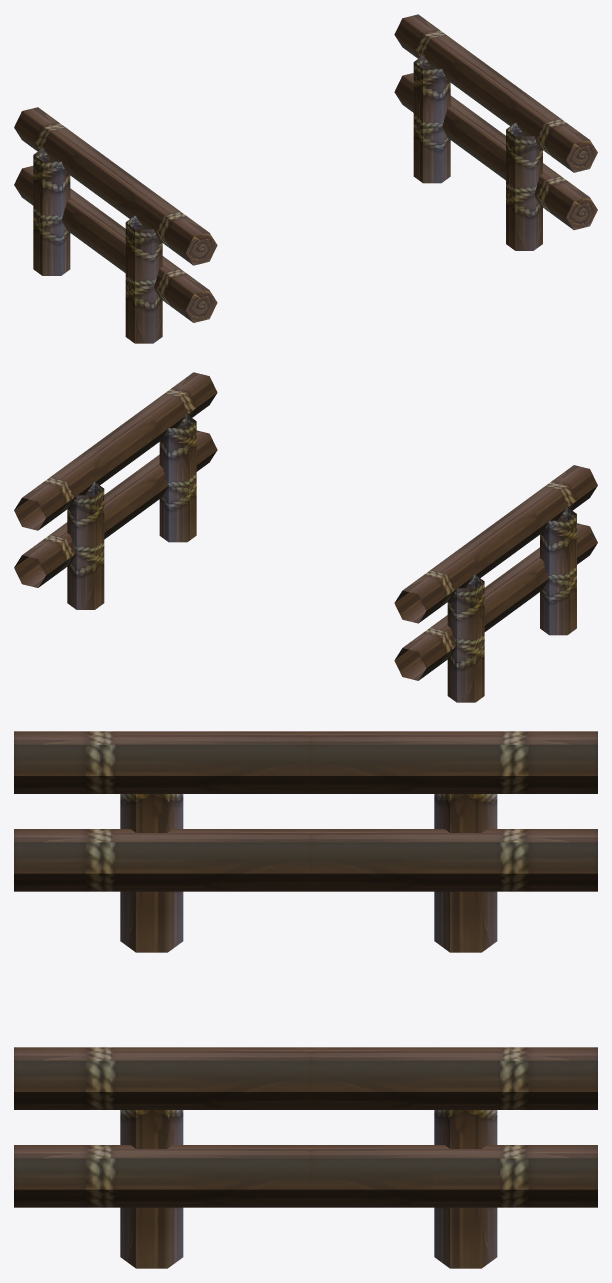
File: scenes_beach_road02.FBX
3 views of the same model, one above another, from view 1: azimuth 30°, elevation 25°; view 2: azimuth 150°, elevation 25°; view 3: azimuth 270°, elevation 25° (orthographic). The views are drawn at different scales.
Visible parts, largest first — view 1: scenes_beach_road02; view 2: scenes_beach_road02; view 3: scenes_beach_road02.
Part boxes in pixels (left/top/right/bottom): scenes_beach_road02: left=14, top=14, right=597, bottom=343; scenes_beach_road02: left=14, top=372, right=597, bottom=702; scenes_beach_road02: left=14, top=731, right=597, bottom=1268.
Bounding box in the file's own units: 439 × 125 × 306.
